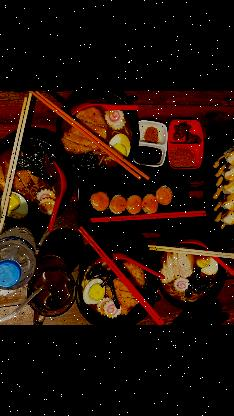Plastic Bottle: (0, 211, 37, 287)
